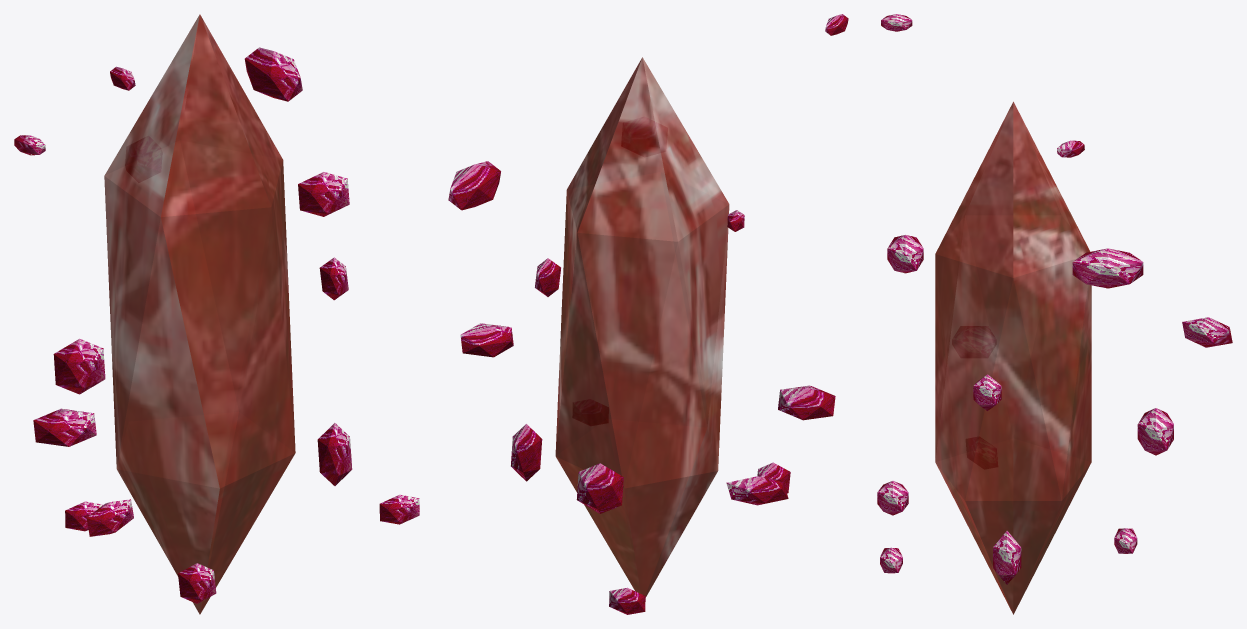
File: source.obj
3 renders of one model, left to right at view 1: azimuth 30°, elevation 25°; view 2: azimuth 150°, elevation 25°; view 3: azimuth 270°, elevation 25°, orthographic. The views are drawn at different scales.
Visible parts, largest first — view 1: Crystal-Active_Crystal_Rune_Cube.008, Icosphere.005_Icosphere.004, Icosphere.007_Icosphere.002, Icosphere.004_Icosphere.002, Icosphere.006_Icosphere.002, Icosphere.002, Icosphere.013_Icosphere.002, Icosphere.001_Icosphere.002, Icosphere.011_Icosphere.002, Icosphere.008_Icosphere.005, Icosphere.003_Icosphere.002; view 2: Crystal-Active_Crystal_Rune_Cube.008, Icosphere.005_Icosphere.004, Icosphere.007_Icosphere.002, Icosphere.004_Icosphere.002, Icosphere.012_Icosphere.008, Icosphere.013_Icosphere.002, Icosphere.002, Icosphere.003_Icosphere.002, Icosphere.008_Icosphere.005; view 3: Crystal-Active_Crystal_Rune_Cube.008, Icosphere.005_Icosphere.004, Icosphere.007_Icosphere.002, Icosphere.012_Icosphere.008, Icosphere.006_Icosphere.002, Icosphere.002, Icosphere.001_Icosphere.002, Icosphere.008_Icosphere.005, Icosphere.003_Icosphere.002, Icosphere.011_Icosphere.002.
Part boxes in pixels (x1,y1,x2,y2): Crystal-Active_Crystal_Rune_Cube.008: [104, 14, 295, 614]; Icosphere.005_Icosphere.004: [244, 47, 302, 101]; Icosphere.007_Icosphere.002: [53, 338, 105, 394]; Icosphere.004_Icosphere.002: [33, 408, 96, 446]; Icosphere.006_Icosphere.002: [298, 172, 349, 216]; Icosphere.002: [317, 423, 352, 485]; Icosphere.013_Icosphere.002: [86, 499, 133, 536]; Icosphere.001_Icosphere.002: [178, 563, 216, 603]; Icosphere.011_Icosphere.002: [379, 494, 419, 524]; Icosphere.008_Icosphere.005: [319, 257, 348, 300]; Icosphere.003_Icosphere.002: [65, 501, 103, 531]; Crystal-Active_Crystal_Rune_Cube.008: [555, 57, 729, 597]; Icosphere.005_Icosphere.004: [448, 161, 500, 210]; Icosphere.007_Icosphere.002: [576, 463, 623, 513]; Icosphere.004_Icosphere.002: [778, 385, 835, 420]; Icosphere.012_Icosphere.008: [460, 323, 513, 357]; Icosphere.013_Icosphere.002: [726, 476, 788, 505]; Icosphere.002: [511, 424, 542, 481]; Icosphere.003_Icosphere.002: [609, 587, 645, 614]; Icosphere.008_Icosphere.005: [535, 258, 560, 296]; Crystal-Active_Crystal_Rune_Cube.008: [935, 101, 1091, 614]; Icosphere.005_Icosphere.004: [1072, 248, 1143, 288]; Icosphere.007_Icosphere.002: [1137, 408, 1173, 455]; Icosphere.012_Icosphere.008: [1182, 317, 1232, 347]; Icosphere.006_Icosphere.002: [887, 235, 923, 273]; Icosphere.002: [993, 531, 1021, 584]; Icosphere.001_Icosphere.002: [877, 481, 908, 515]; Icosphere.008_Icosphere.005: [973, 374, 1001, 410]; Icosphere.003_Icosphere.002: [1114, 528, 1137, 553]; Icosphere.011_Icosphere.002: [880, 547, 902, 573].
Bounding box in the file's own units: 62.23 × 112 × 66.69.
Materials: 2 (2 with a texture image).
